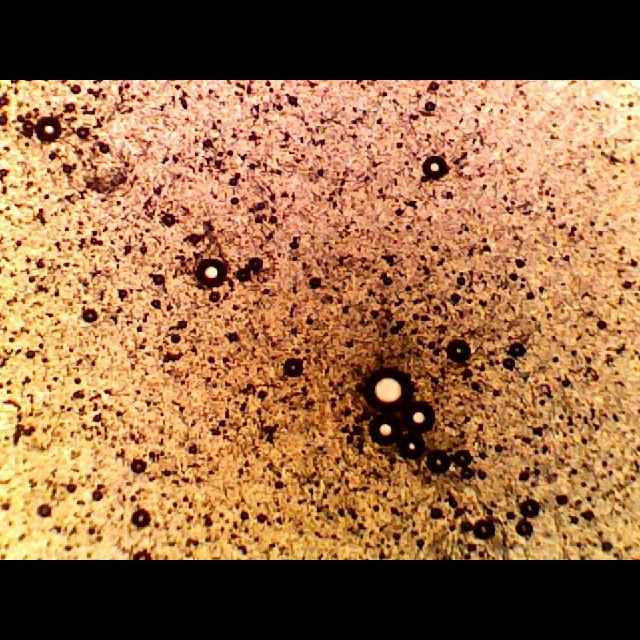microbeads: (364, 364, 414, 418), (368, 412, 406, 446), (191, 256, 229, 288), (404, 404, 436, 434)
